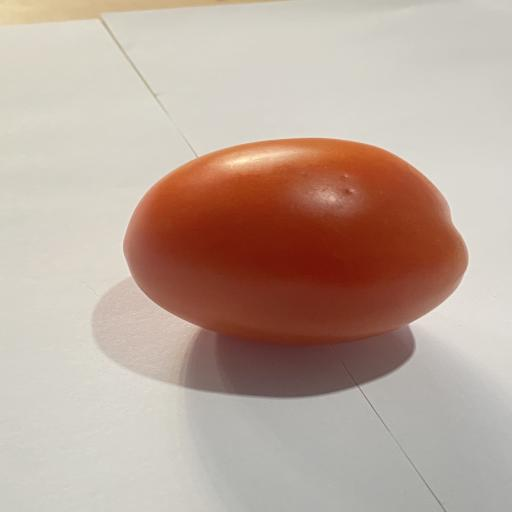ripe: (124, 138, 468, 344)
